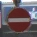No entry: (6, 5, 32, 32)
